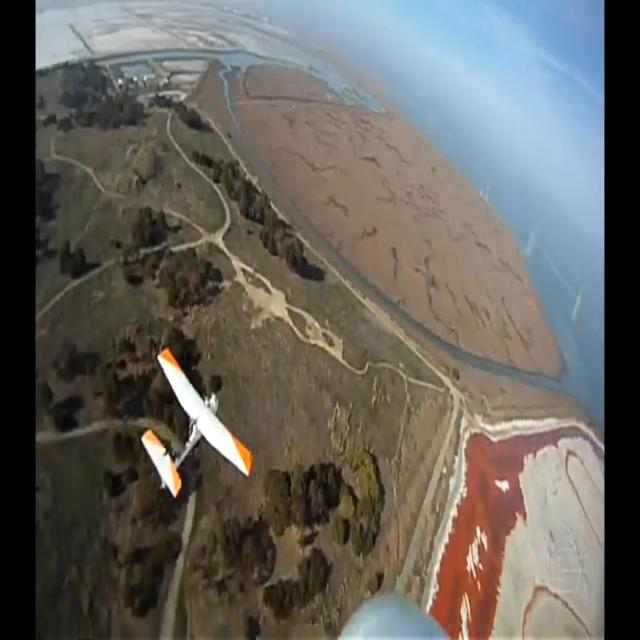iha: (172, 343, 222, 500)
